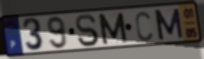3: (22, 17, 45, 53)
9: (46, 15, 68, 50)
C: (134, 10, 154, 43)
M: (96, 11, 129, 46), (152, 7, 185, 41)
S: (75, 13, 101, 48)
